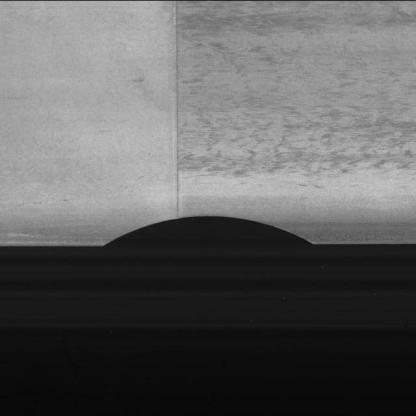crescent_gap: (93, 209, 322, 262)
welding_line: (156, 0, 196, 224)
